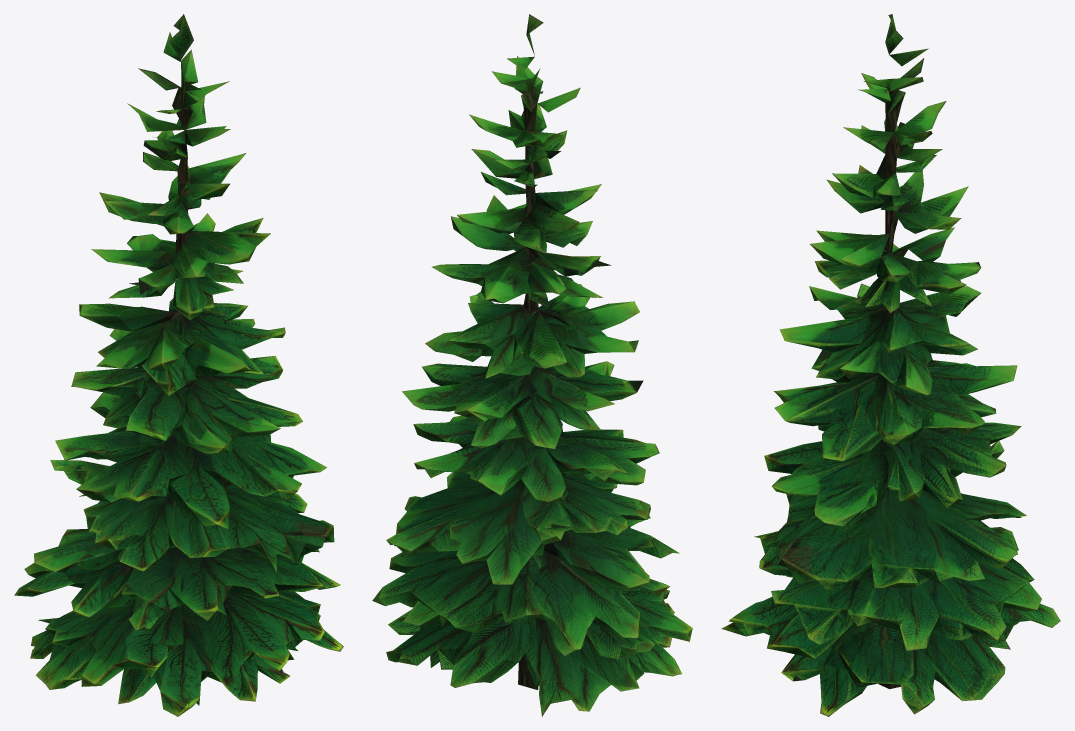
3 renders of one model, left to right at view 1: azimuth 30°, elevation 25°; view 2: azimuth 150°, elevation 25°; view 3: azimuth 270°, elevation 25°, orthographic.
Size of the model in its own units: 0.7064 by 1.63 by 0.7484.
1 material, 1 textured.
